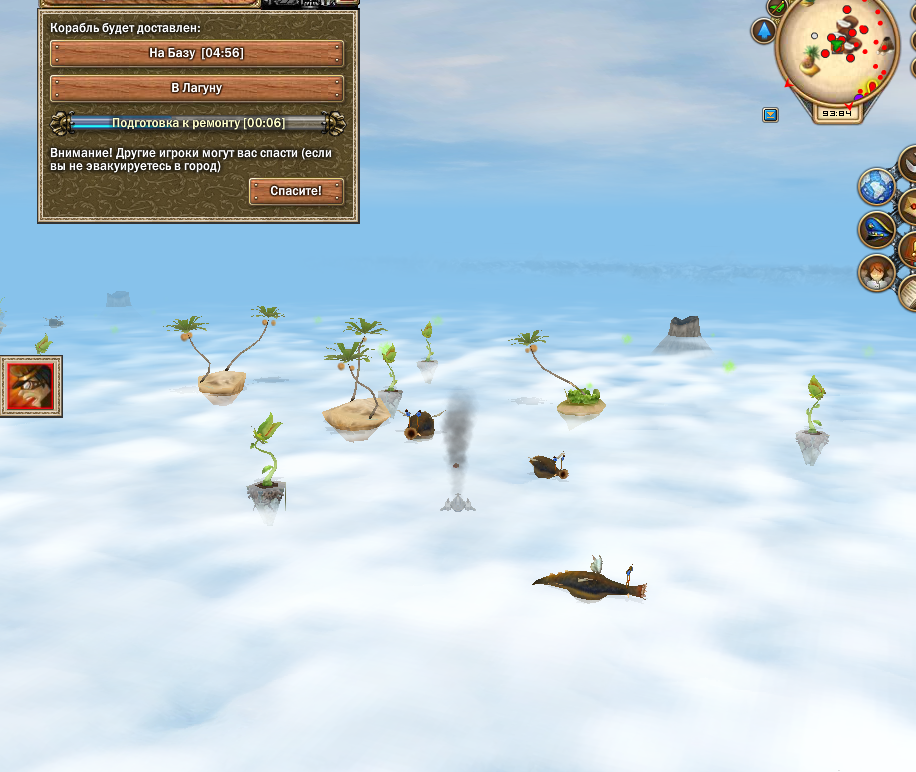palm: (164, 301, 287, 405), (506, 326, 608, 425), (319, 315, 394, 444)
